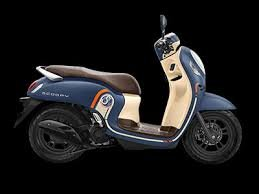motor: (12, 35, 251, 176)
